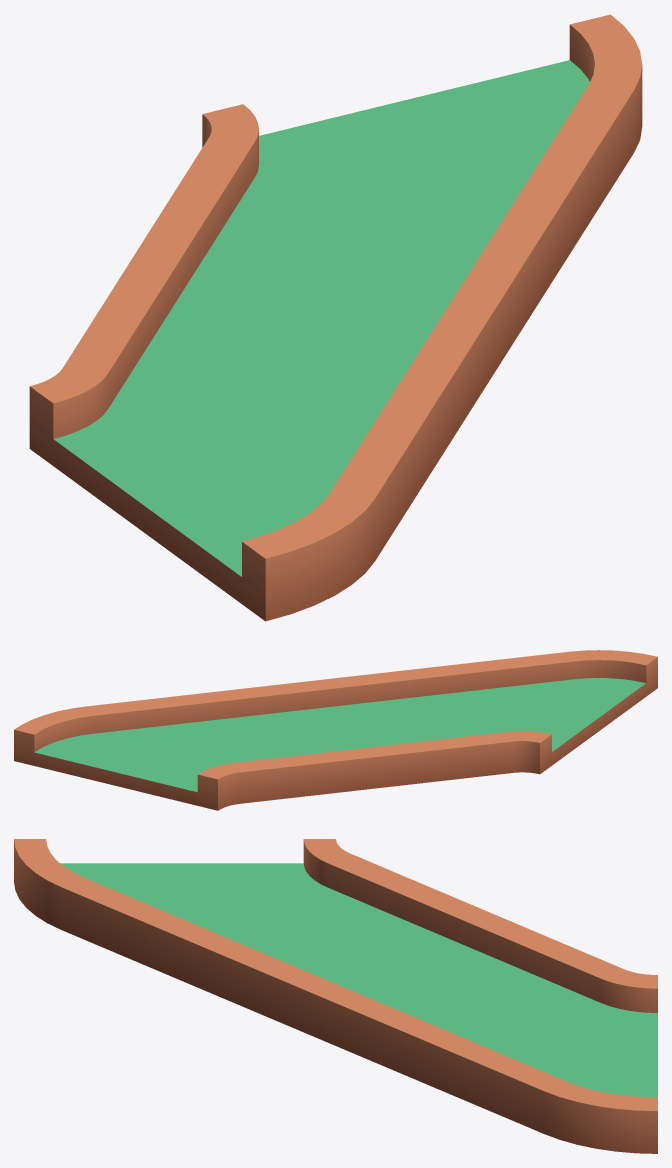
File: skew-large-corner.glb
3 renders of one model, top to bottom at view 1: azimuth 30°, elevation 25°; view 2: azimuth 150°, elevation 25°; view 3: azimuth 270°, elevation 25°, orthographic. The views are drawn at different scales.
Parts seen in each view (by area): view 1: skew-large-corner; view 2: skew-large-corner; view 3: skew-large-corner.
Part boxes in pixels (x1=…): skew-large-corner: x1=29, y1=14, x2=642, y2=621; skew-large-corner: x1=14, y1=650, x2=657, y2=810; skew-large-corner: x1=14, y1=839, x2=657, y2=1153.
Size of the model in its own units: 2 by 0.1467 by 2.
Materials: 1 (1 with a texture image).
